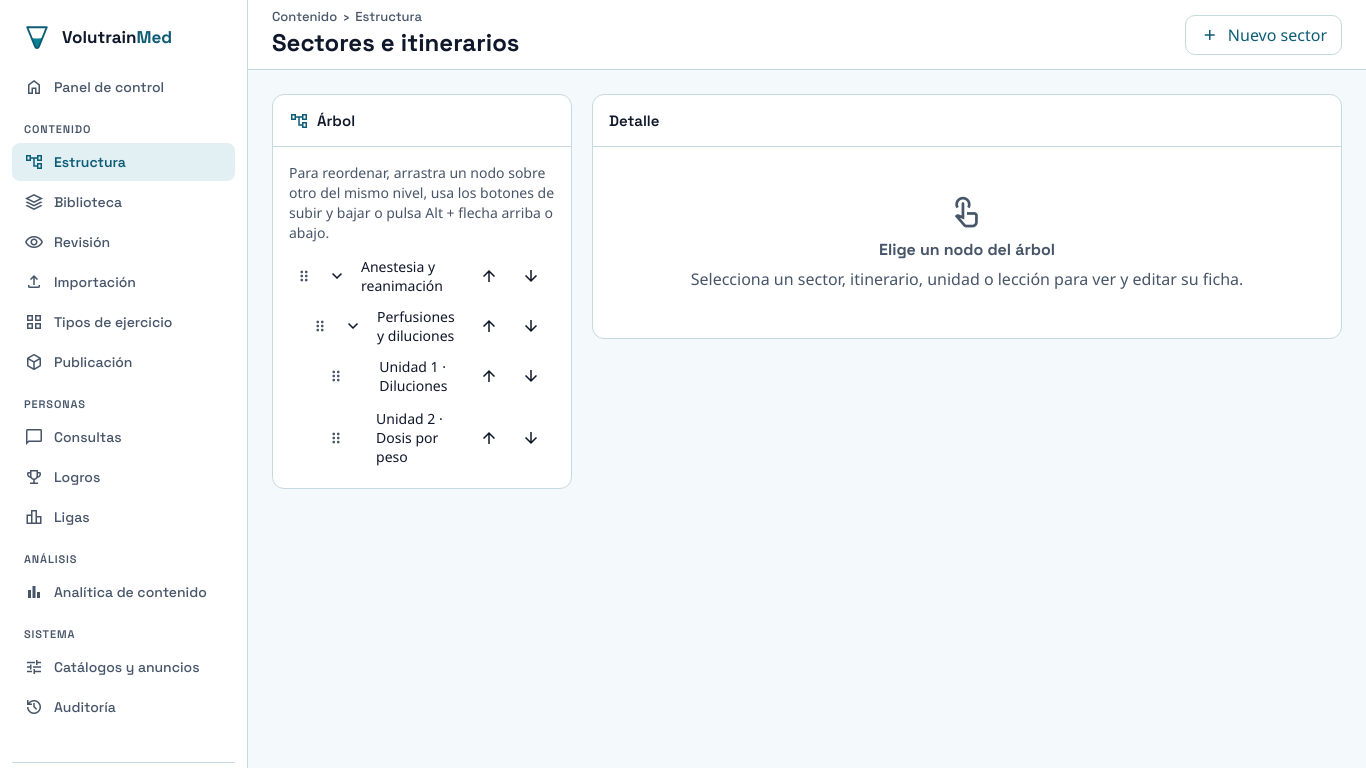
B04 · estructura del contenido › Reordenar sin arrastrar: la unidad cambia de posición en el itinerario con «subir» y «bajar»
The image size is (1366, 768).
Expected: the button "Unidad 2 · Dosis por peso" is shown, left=376, top=403, right=465, bottom=472
Expected: the button named "Subir Diluciones" is disabled, left=471, top=358, right=507, bottom=394
Click the button named "Subir Dosis por peso" at coordinates (489, 438), box left=471, top=420, right=507, bottom=456
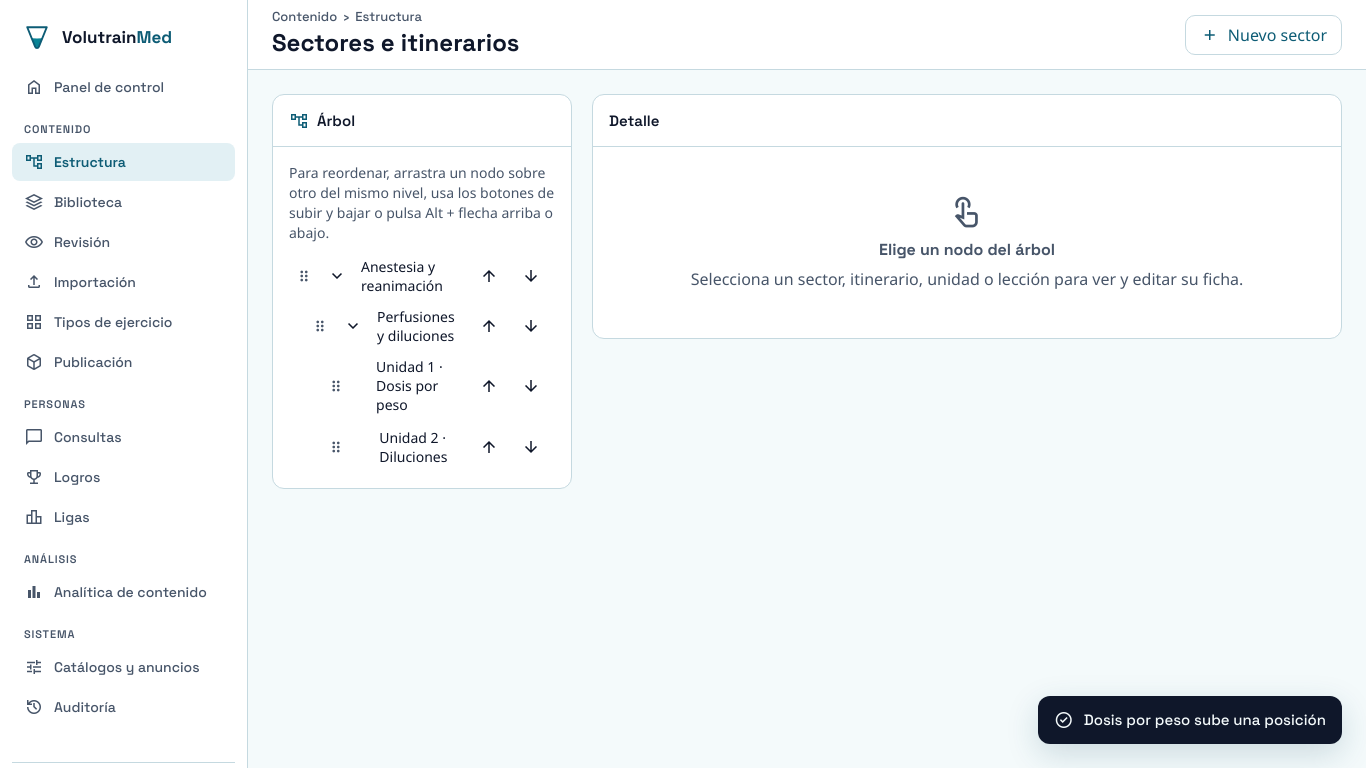
Result: the button "Unidad 1 · Dosis por peso" is shown at left=376, top=351, right=465, bottom=420
Result: the button "Unidad 2 · Diluciones" is shown at left=379, top=422, right=465, bottom=472
